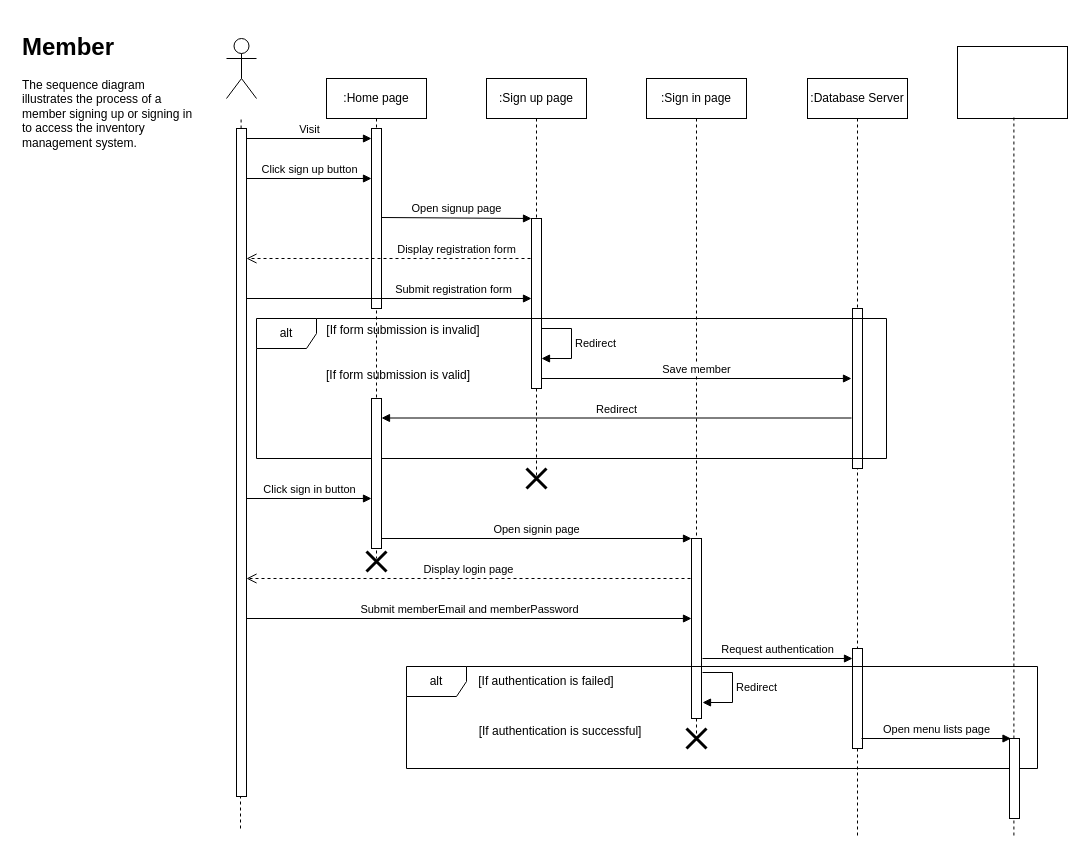
Image size: 1085x856. Some labels were removed from this diagram. The centre of each missing label's shape, as x and y in pixels:
"<<Actor>> Inventory management system" goes at (x=1012, y=82).
"Member" goes at (x=241, y=68).
